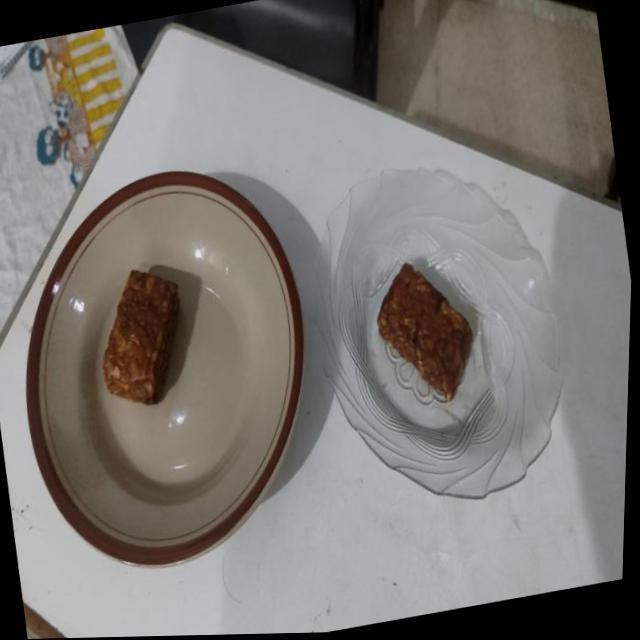tempe_goreng: (378, 264, 472, 401), (104, 270, 180, 404)
